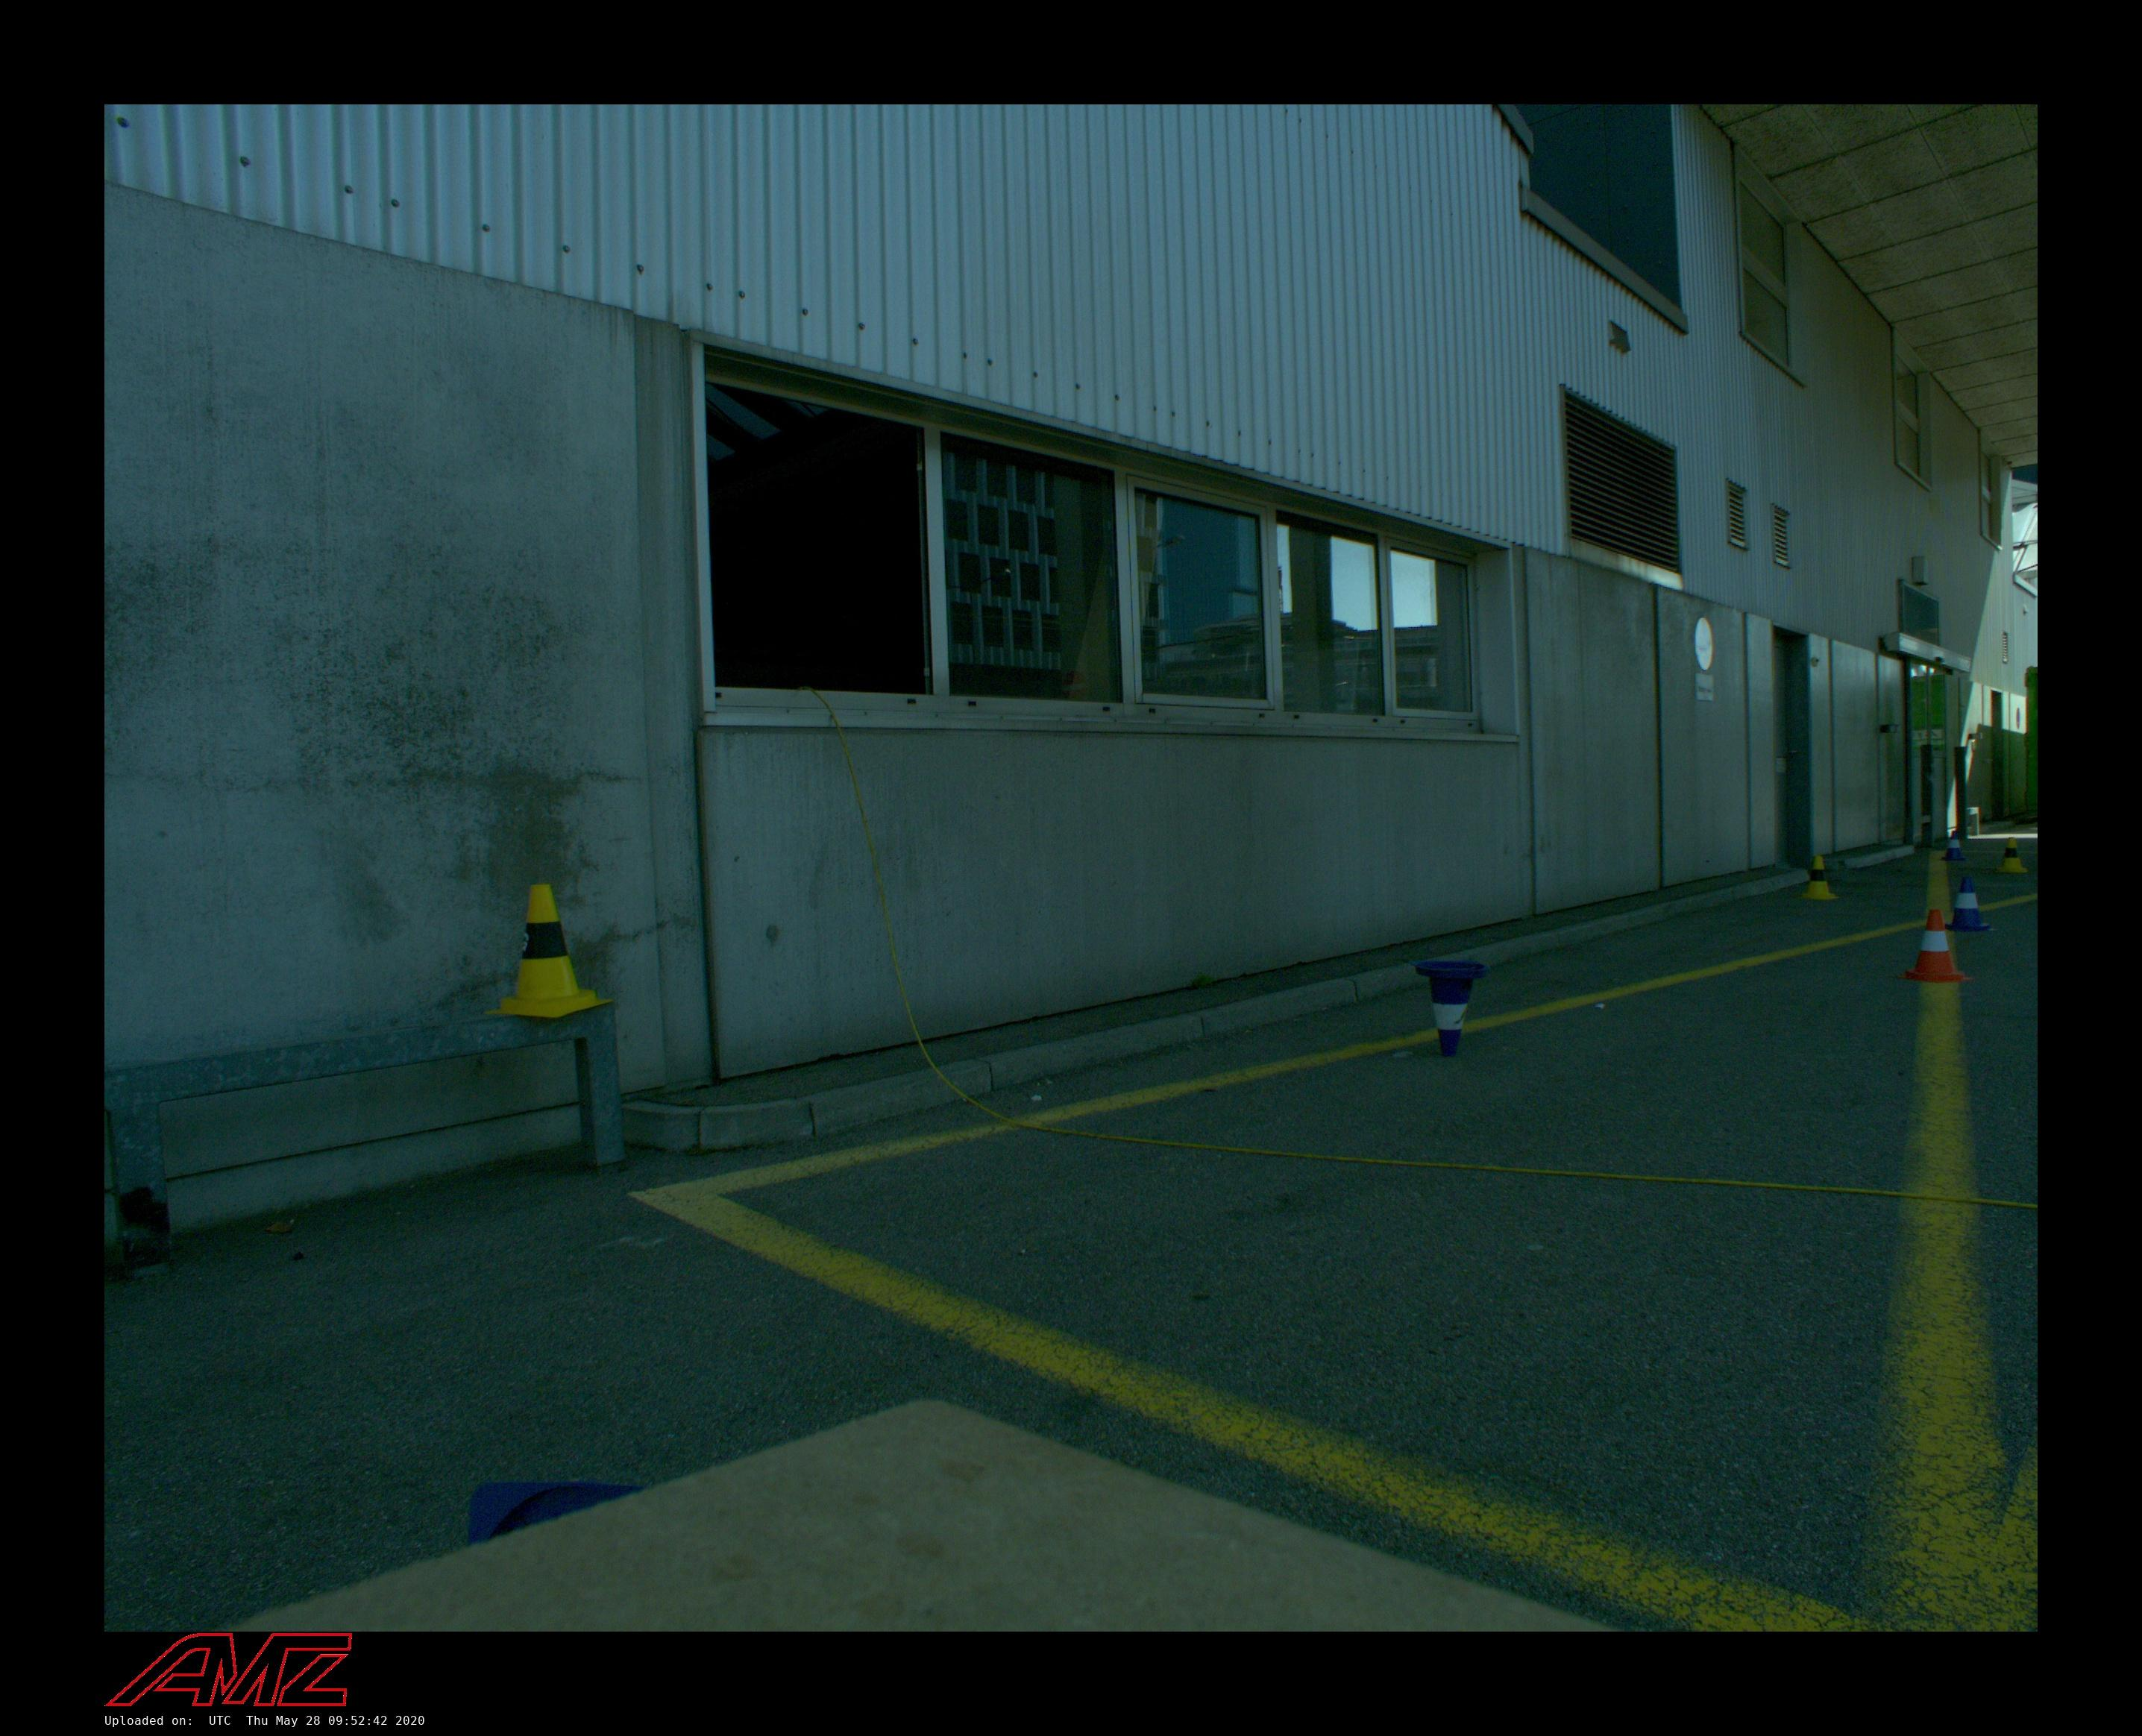blue_cone: (1414, 962, 1486, 1059), (1942, 877, 1997, 934), (1942, 831, 1967, 863)
orange_cone: (1898, 909, 1974, 983)
yellow_cone: (484, 884, 613, 1020), (1798, 856, 1841, 900), (1995, 836, 2029, 873)
